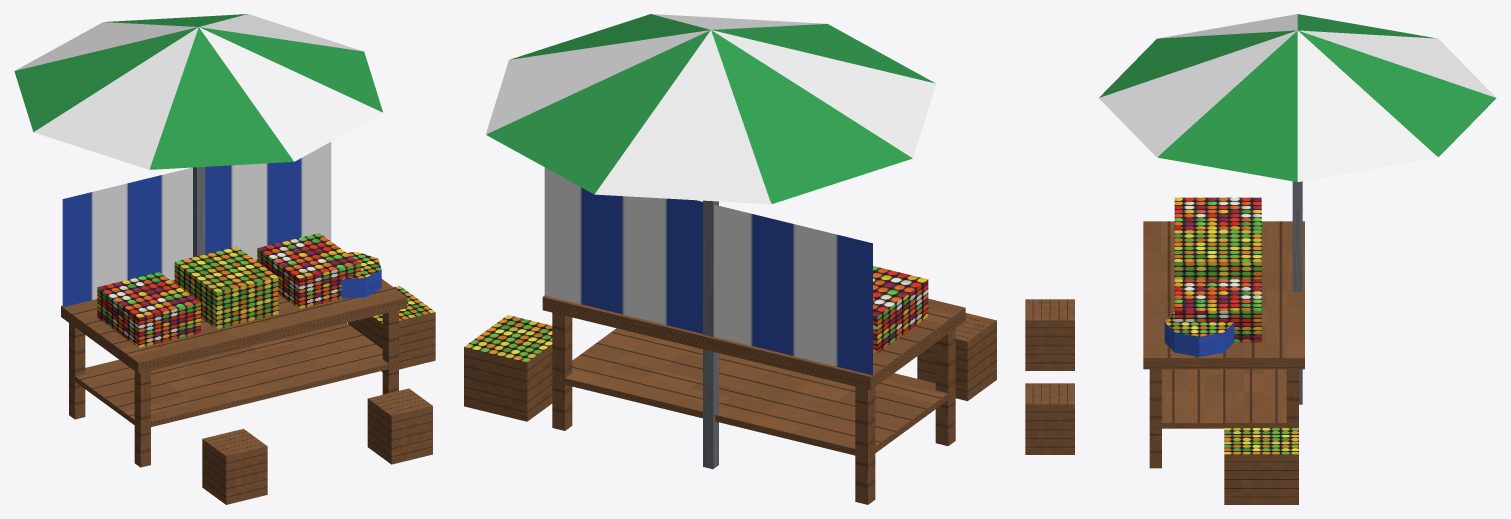
The model's file is stall-blue.glb.
3 renders of one model, left to right at view 1: azimuth 30°, elevation 25°; view 2: azimuth 150°, elevation 25°; view 3: azimuth 270°, elevation 25°, orthographic. The views are drawn at different scales.
Visible parts, largest first — view 1: stall-blue; view 2: stall-blue; view 3: stall-blue.
Boxes of the visible parts, <box> form: stall-blue: <box>14,14,435,504</box>; stall-blue: <box>464,14,996,504</box>; stall-blue: <box>1025,14,1496,504</box>.
Bounding box in the file's own units: 3.55 × 3.3 × 3.79.
Materials: 1 (1 with a texture image).
